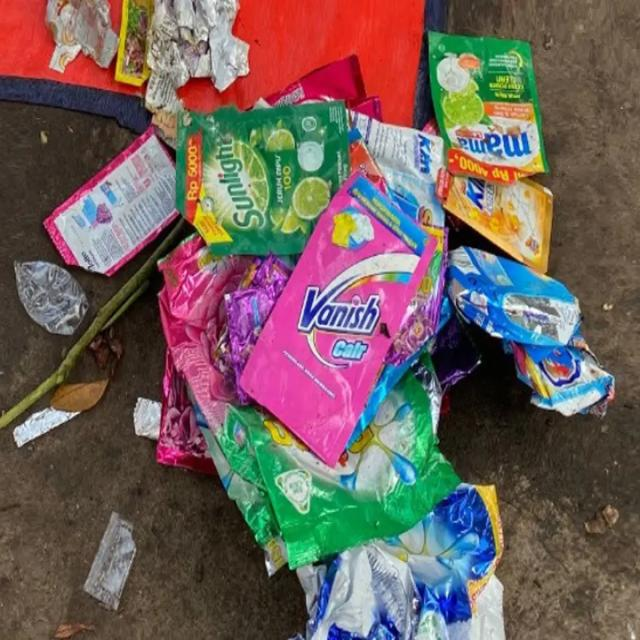Anorganik: (252, 158, 618, 640), (152, 93, 362, 234), (427, 15, 549, 179)
